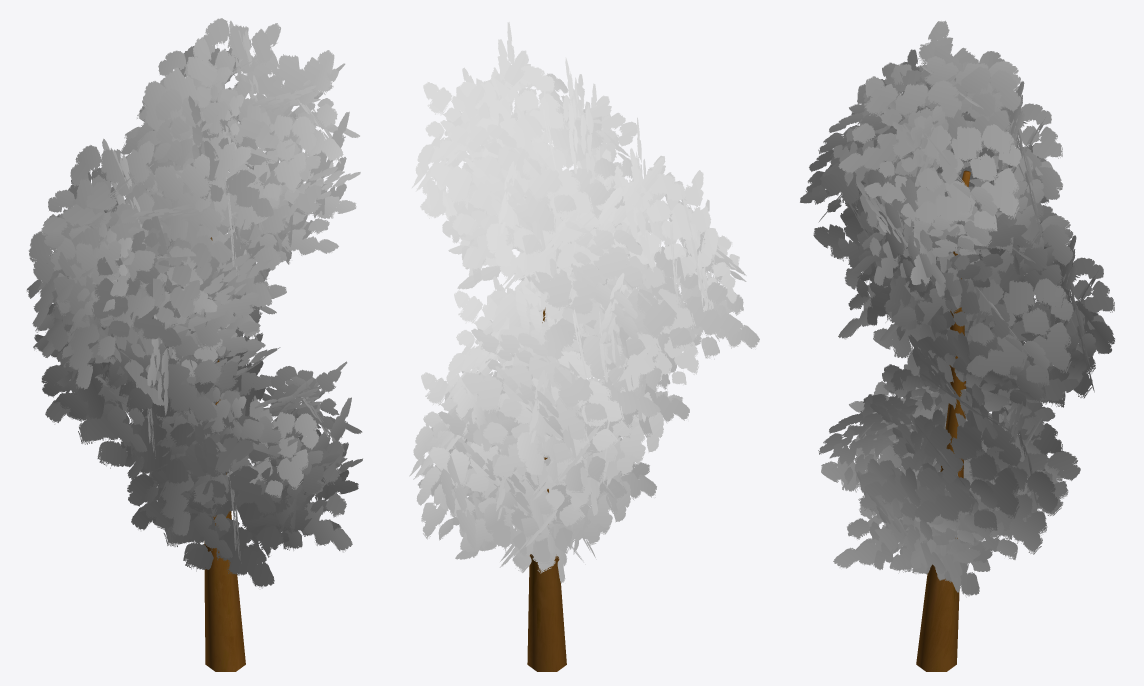
File: SM_Tree1_01.fbx
The picture shows the model from 3 angles, left to right: view 1: azimuth 30°, elevation 25°; view 2: azimuth 150°, elevation 25°; view 3: azimuth 270°, elevation 25°; orthographic projection. The views are drawn at different scales.
Parts seen in each view (by area): view 1: SM_TreeLeaves1_01, SM_Tree1_01; view 2: SM_TreeLeaves1_01, SM_Tree1_01; view 3: SM_TreeLeaves1_01, SM_Tree1_01.
Part boxes in pixels (<box>): SM_TreeLeaves1_01: <box>26,18,362,588</box>; SM_Tree1_01: <box>204,237,245,671</box>; SM_TreeLeaves1_01: <box>409,22,759,583</box>; SM_Tree1_01: <box>527,308,566,671</box>; SM_TreeLeaves1_01: <box>800,20,1114,597</box>; SM_Tree1_01: <box>916,170,970,671</box>.
Bounding box in the file's own units: 524 × 951 × 451.
